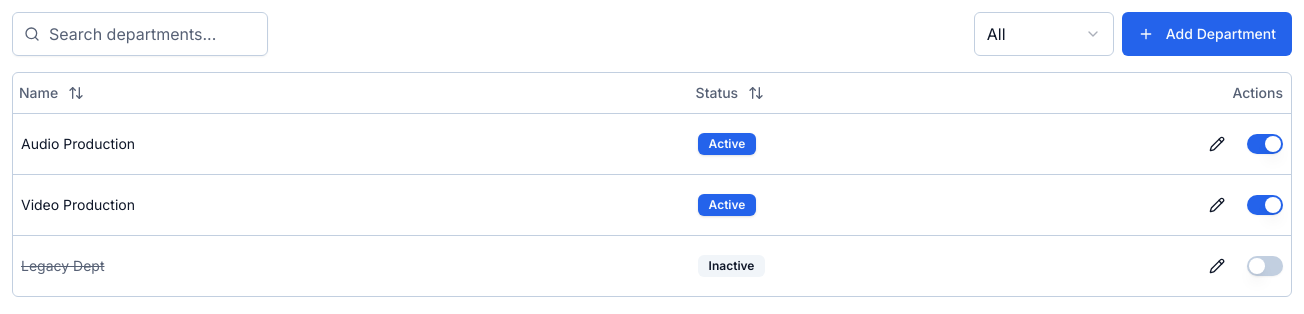
DepartmentsListClient › Status Filtering › filters by active status when selected
The width and height of the screenshot is (1304, 314).
Find and click the status filter
Click the dropdown at (1044, 34), box [974,12,1114,56]
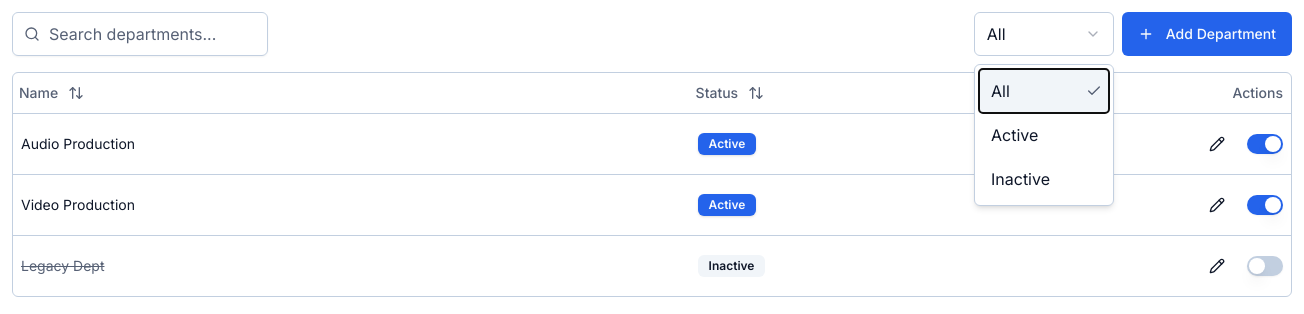
Select 'Active'
Click the option "Active" at (1015, 135), box [991,125,1038,145]
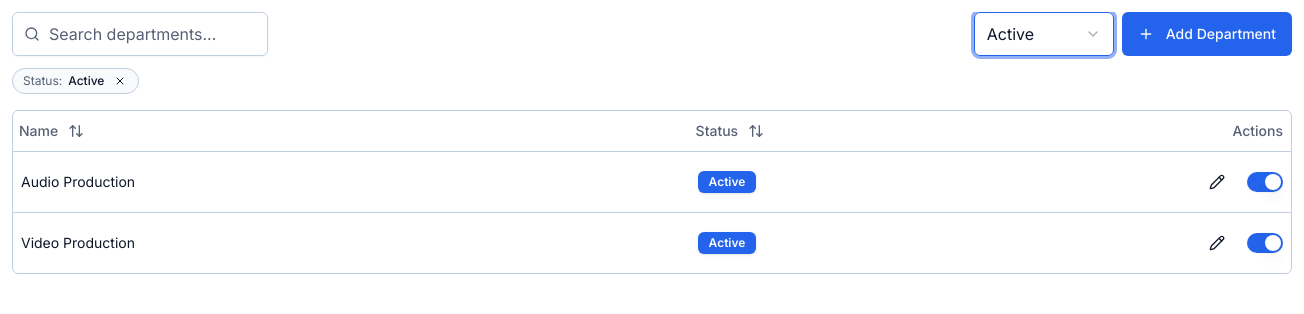
Check: the text "Audio Production" is shown, box [21,172,135,190]
Check: the text "Legacy Dept" is gone
